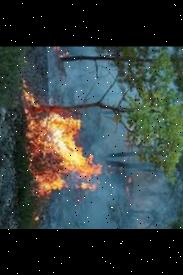fire: (8, 80, 102, 192)
